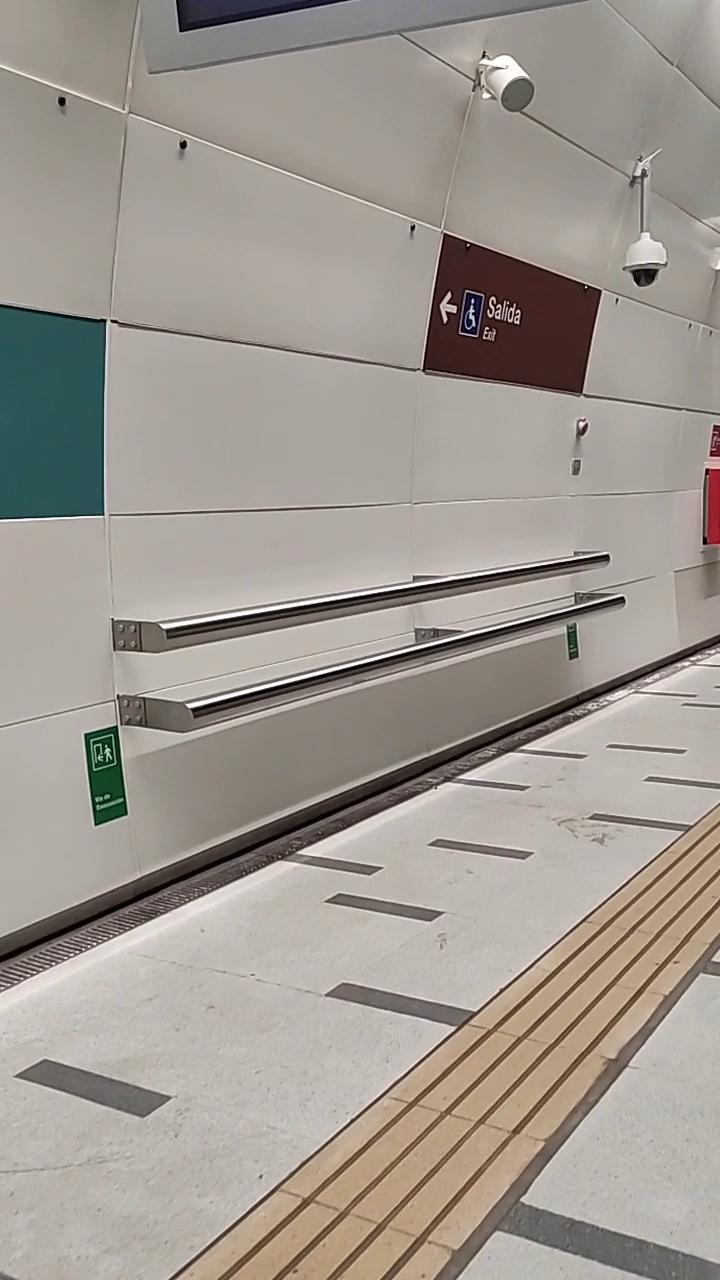handicapped symbol: (456, 292, 487, 332)
left arrow: (438, 287, 458, 331)
